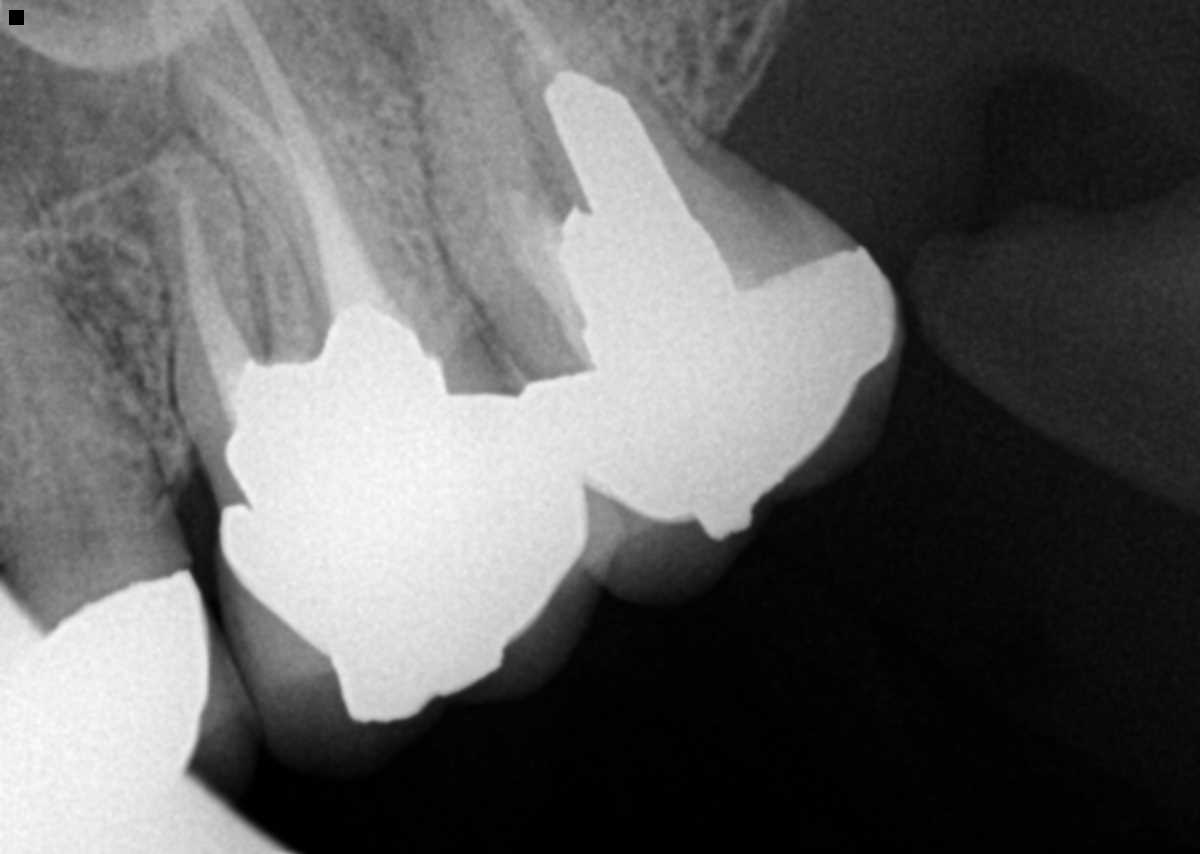Apical Lesion: (76, 60, 215, 239)
Distal Root: (169, 42, 431, 335), (486, 0, 685, 213)
Main Root: (0, 162, 174, 607)
Mesial Root: (375, 0, 564, 333), (146, 137, 269, 458)
Palatal Root: (162, 0, 449, 367)
Root Canal Filling: (228, 2, 392, 321), (176, 191, 253, 400), (193, 69, 302, 190)
